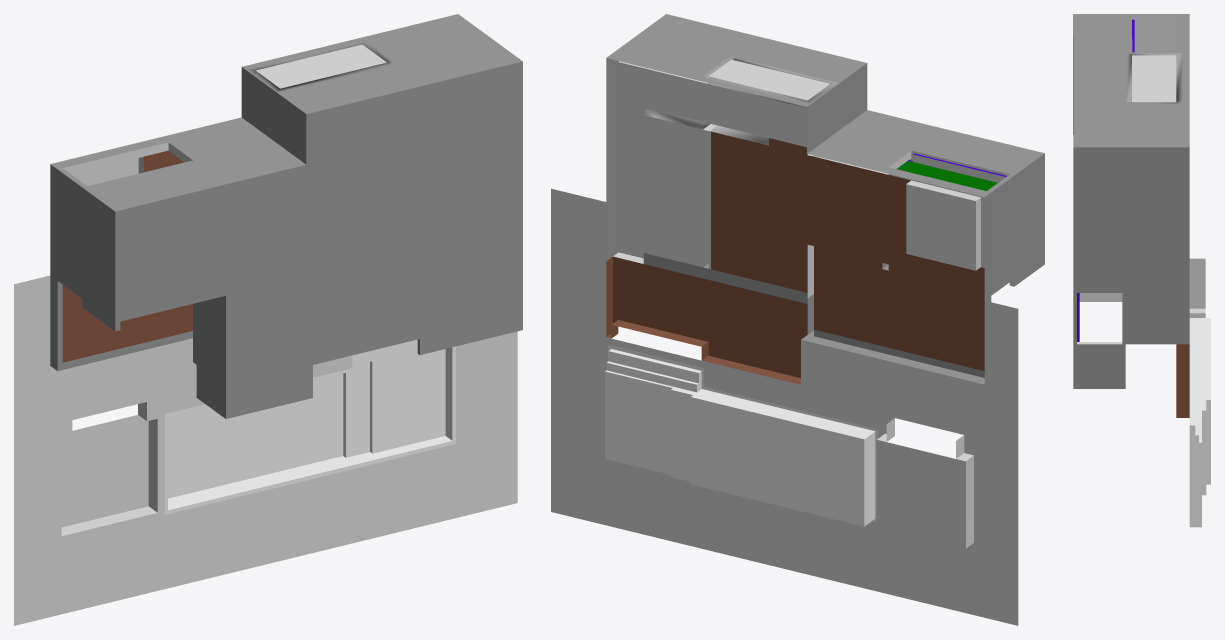
Rendered from VRCChillRoom - fixed scale.fbx.
3 renders of one model, left to right at view 1: azimuth 30°, elevation 25°; view 2: azimuth 150°, elevation 25°; view 3: azimuth 270°, elevation 25°, orthographic. The views are drawn at different scales.
Visible parts, largest first — view 1: house model better UV.002; view 2: house model better UV.002, Cube.002; view 3: house model better UV.002.
Boxes of the visible parts, x1,y1,x2,y2 form: house model better UV.002: (14,14,522,625); house model better UV.002: (551,14,1044,625); Cube.002: (896,153,1006,190); house model better UV.002: (1073,14,1210,527).
Bounding box in the file's own units: 5102 × 4877 × 1347.
